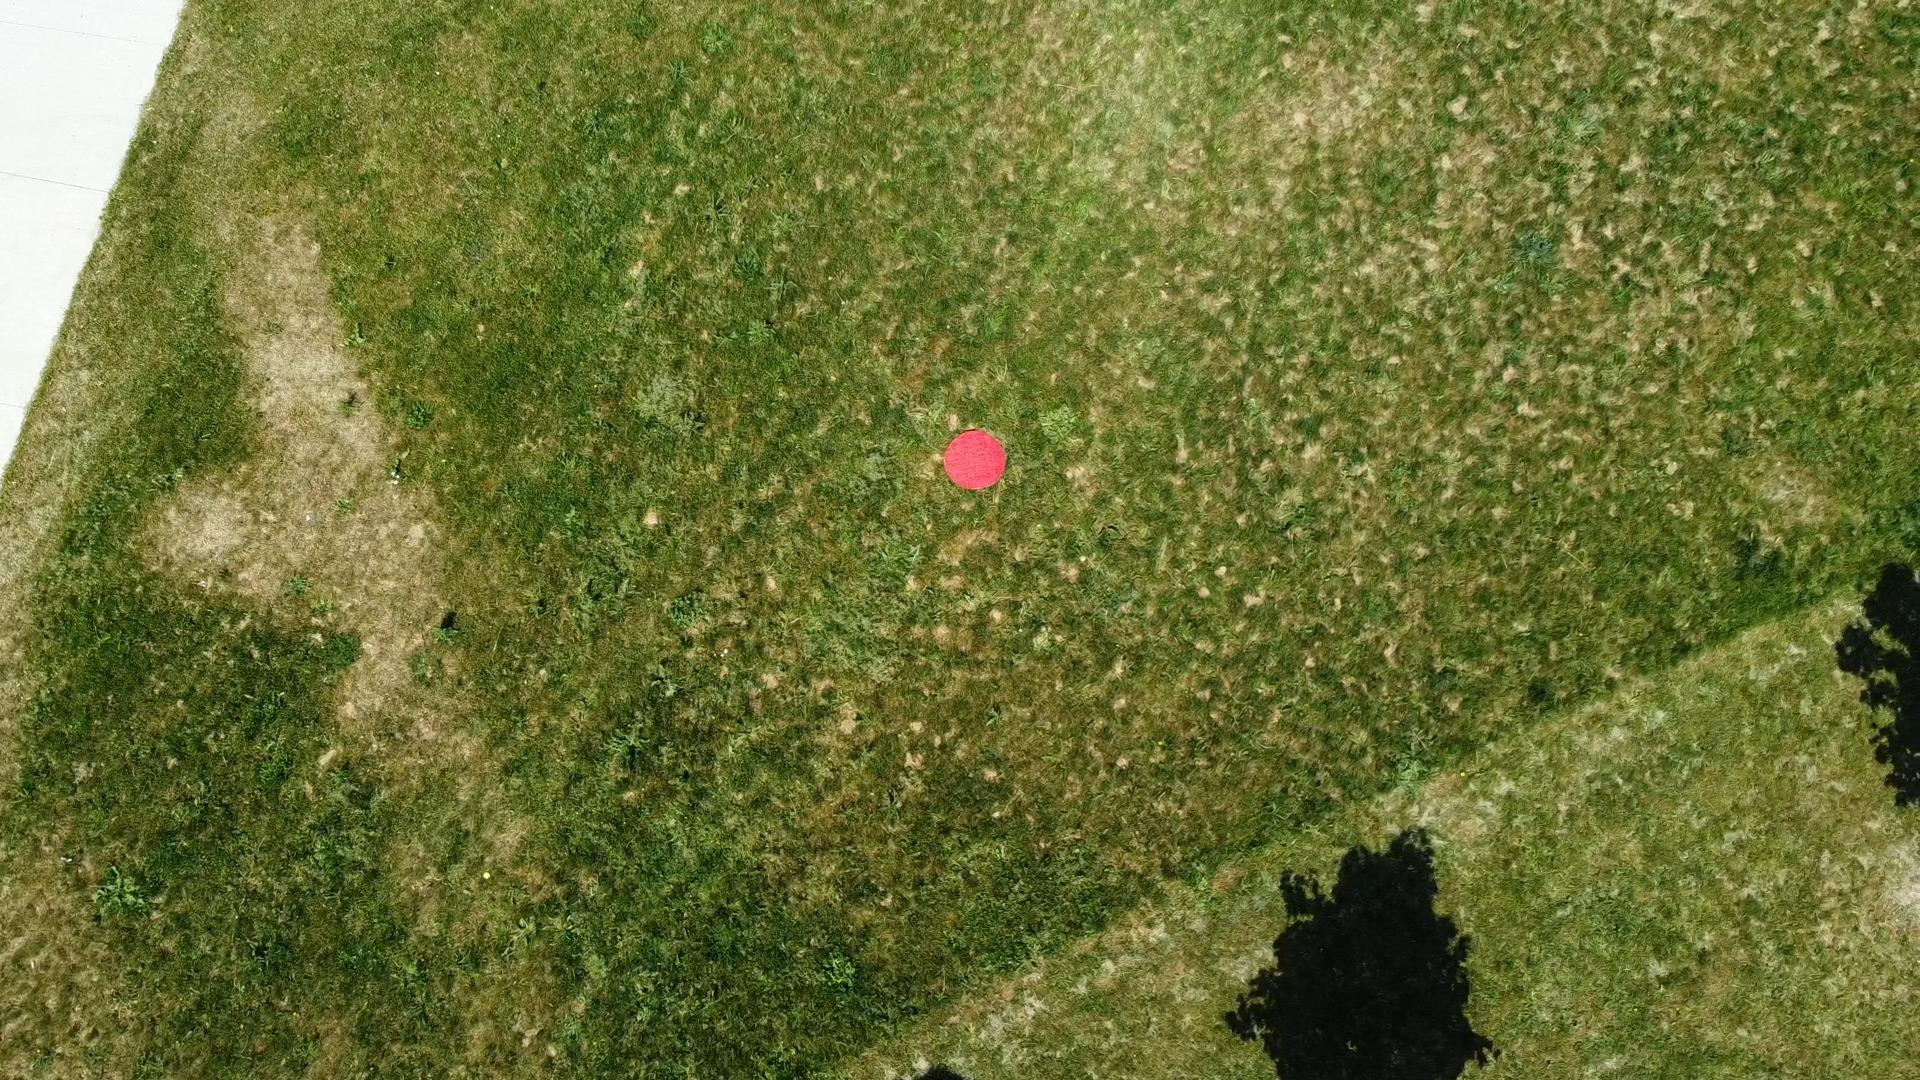Red: (940, 427, 1010, 495)
